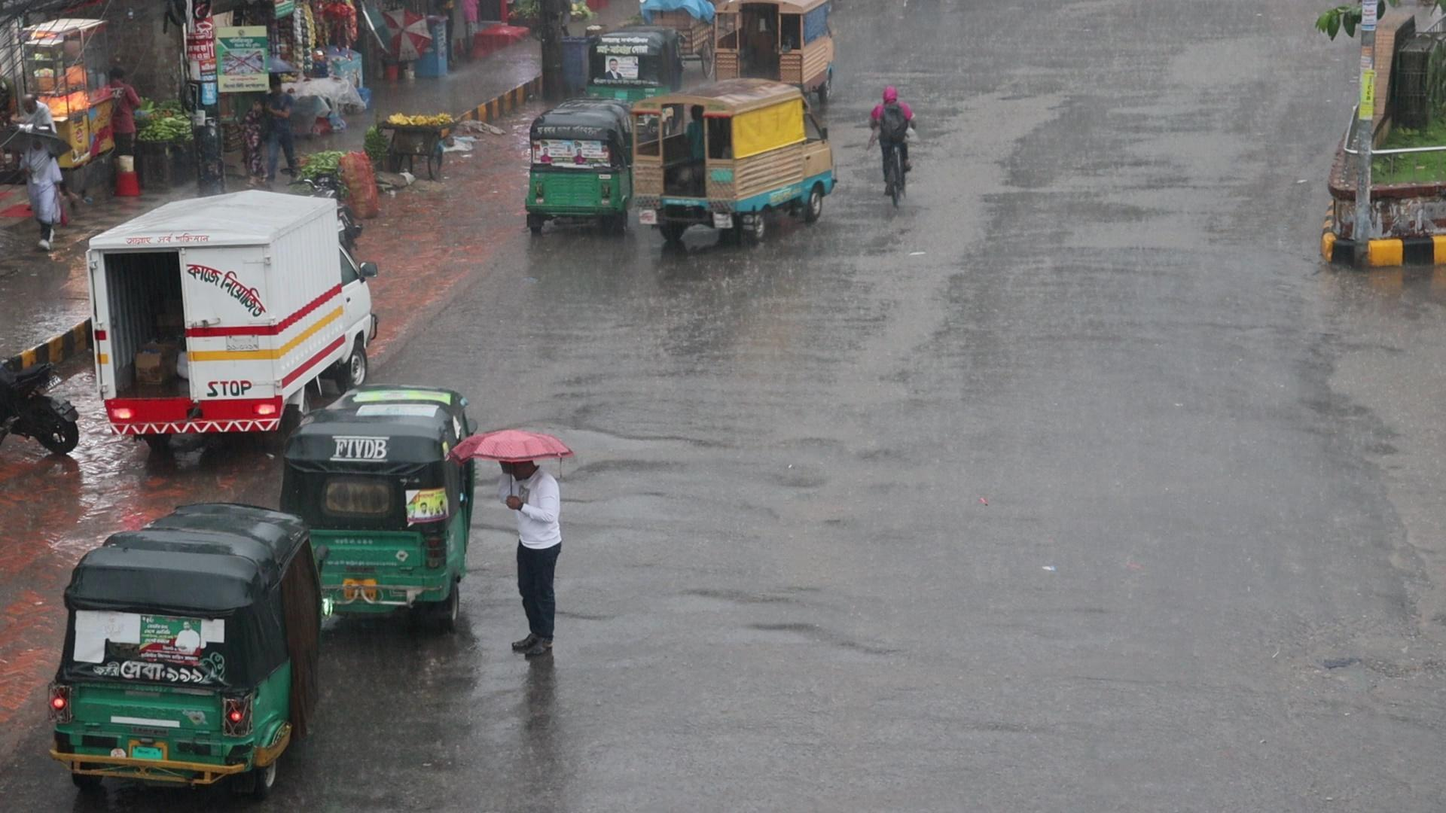Truck: (640, 74, 844, 244)
